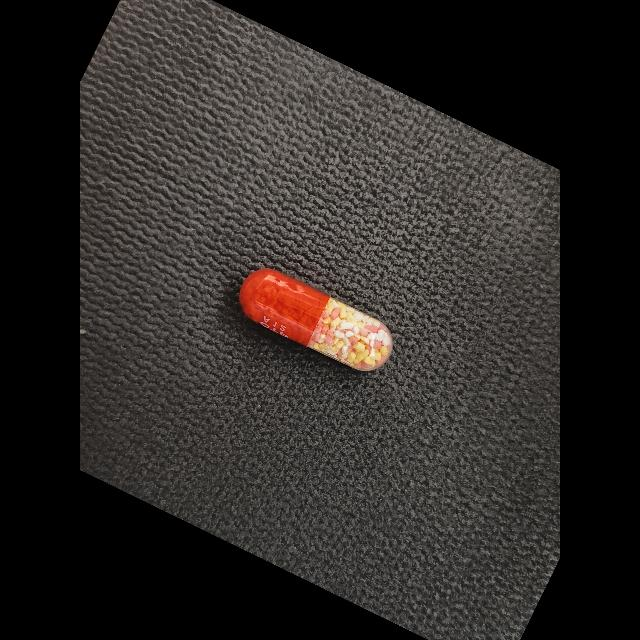Intact Capsule: (239, 269, 392, 371)
